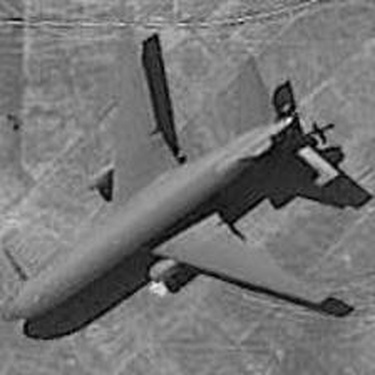airplane: (1, 16, 353, 349)
